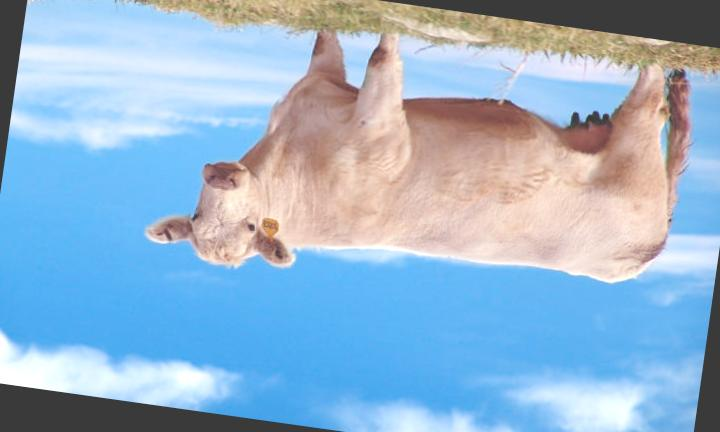Charolais: (145, 33, 689, 282)
